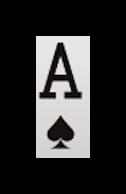AS: (39, 38, 84, 152)
